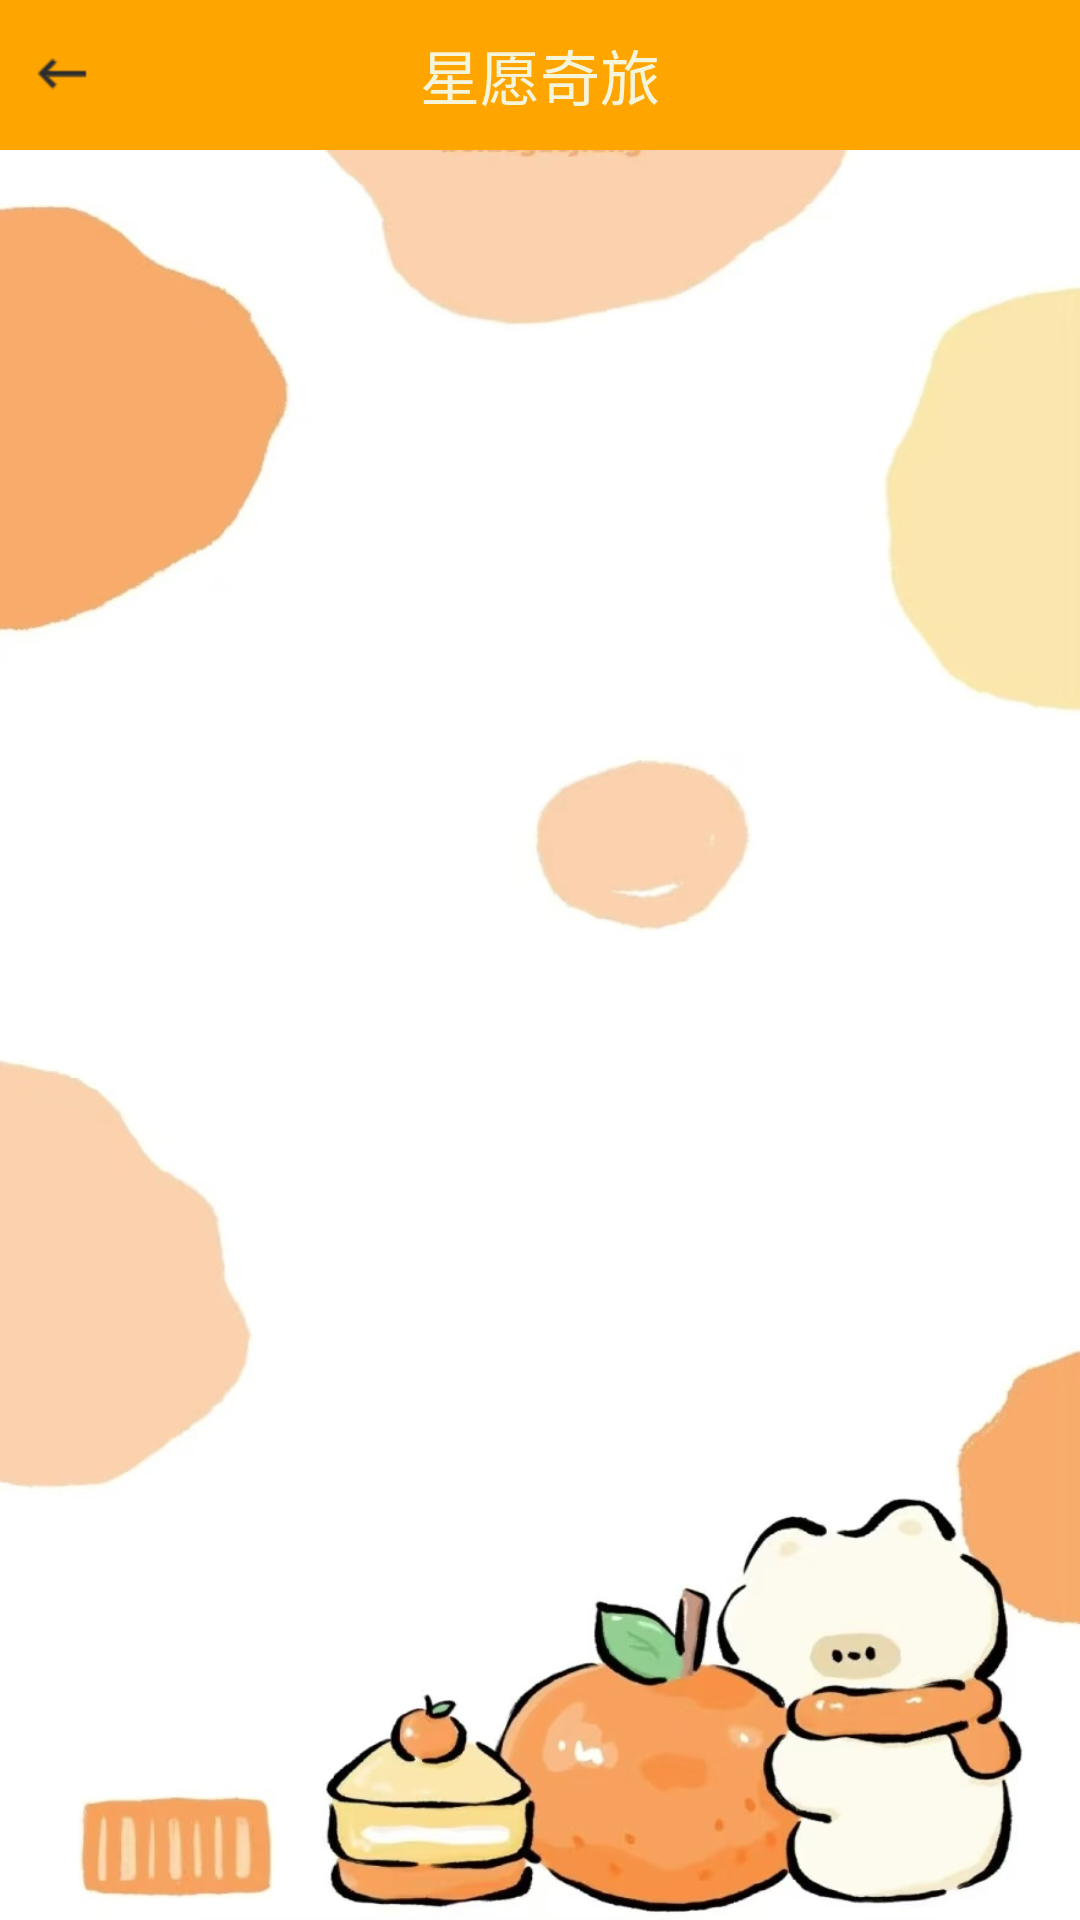

Locate icon controls on the screen. Image size 1080px x 1920px, boxes as detection(x1, y1, x2, y2).
leftback: detection(37, 58, 87, 89)
